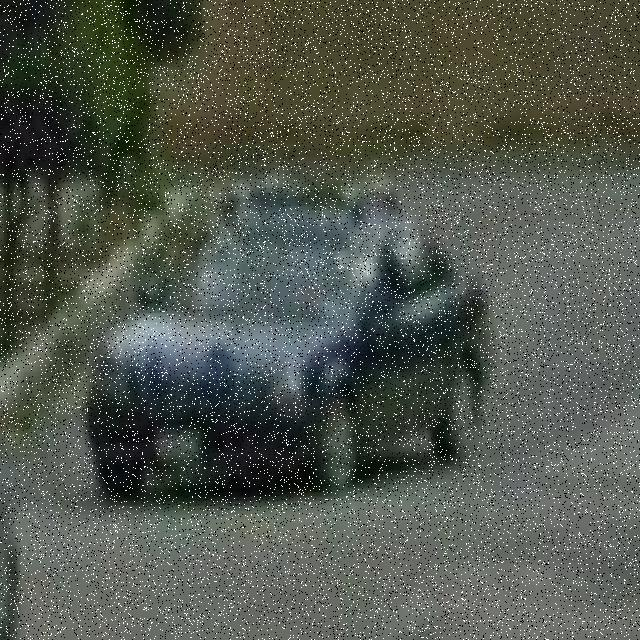cars: (101, 187, 521, 461)
